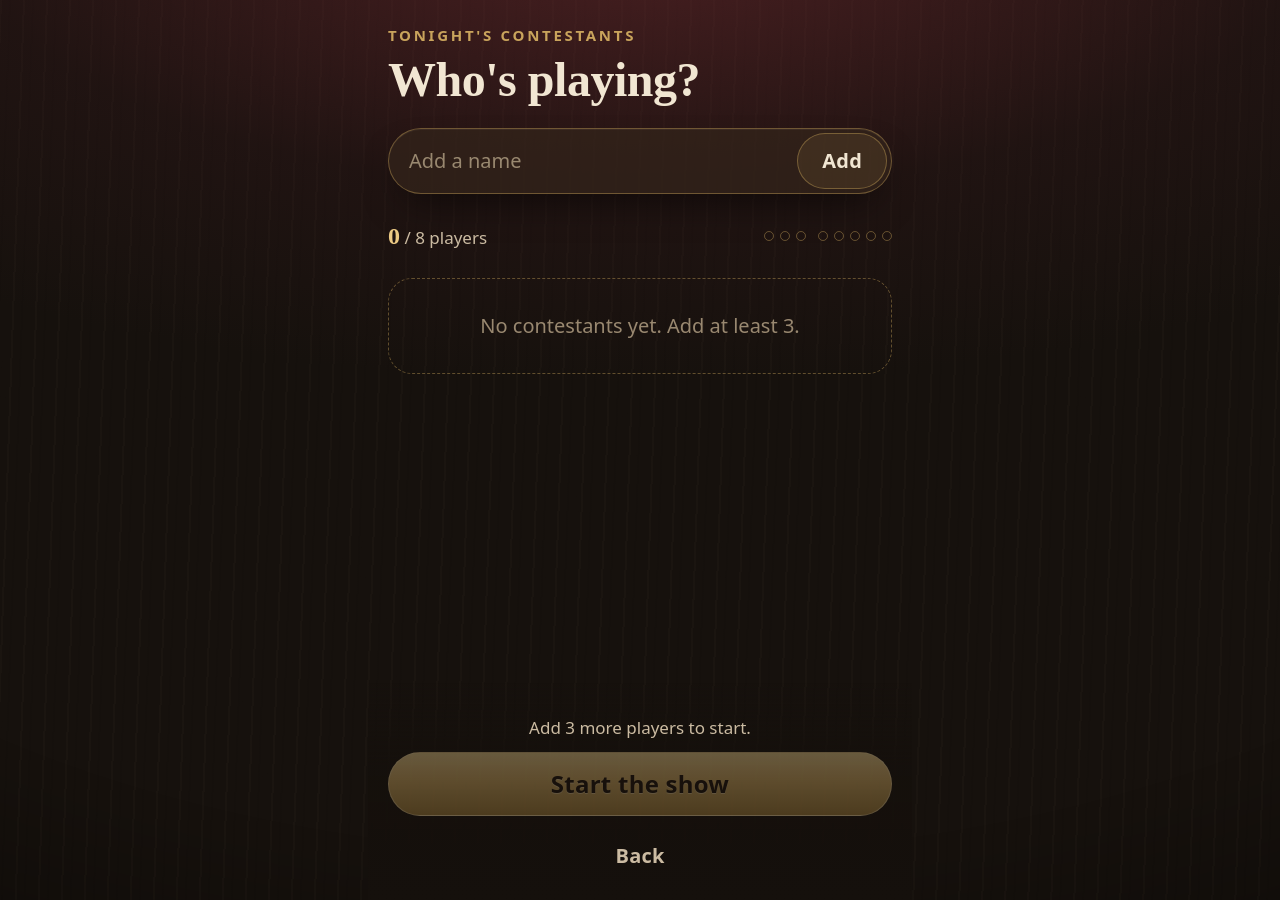
it: Setup › reorders with the move buttons and removes players
Type "Ana" into the field named "Player name" at (591, 161), box [393,133,789,189]
Click the button "Add" at (842, 161), box [797,133,887,189]
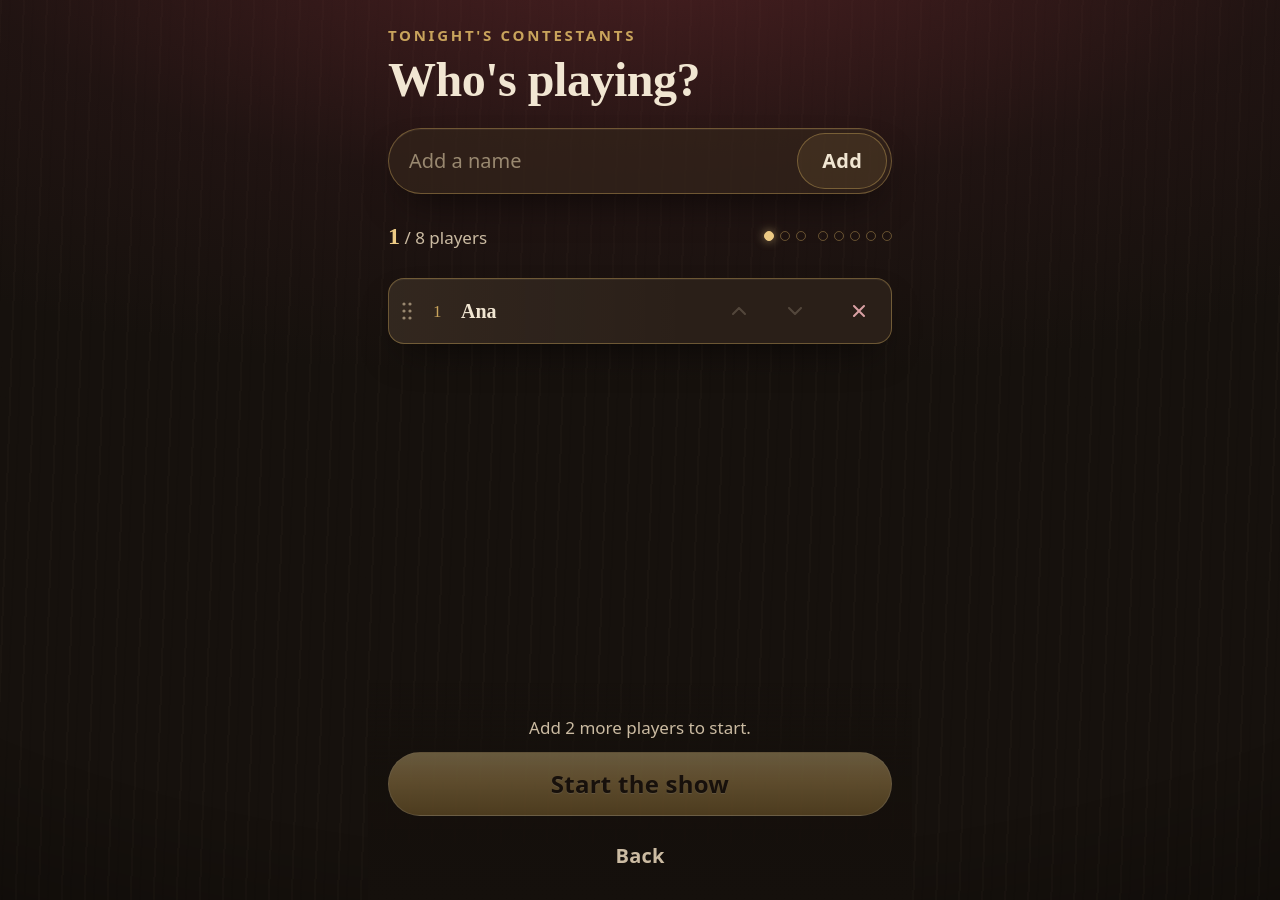
Type "Ben" into the field named "Player name" at (591, 161), box [393,133,789,189]
Click the button "Add" at (842, 161), box [797,133,887,189]
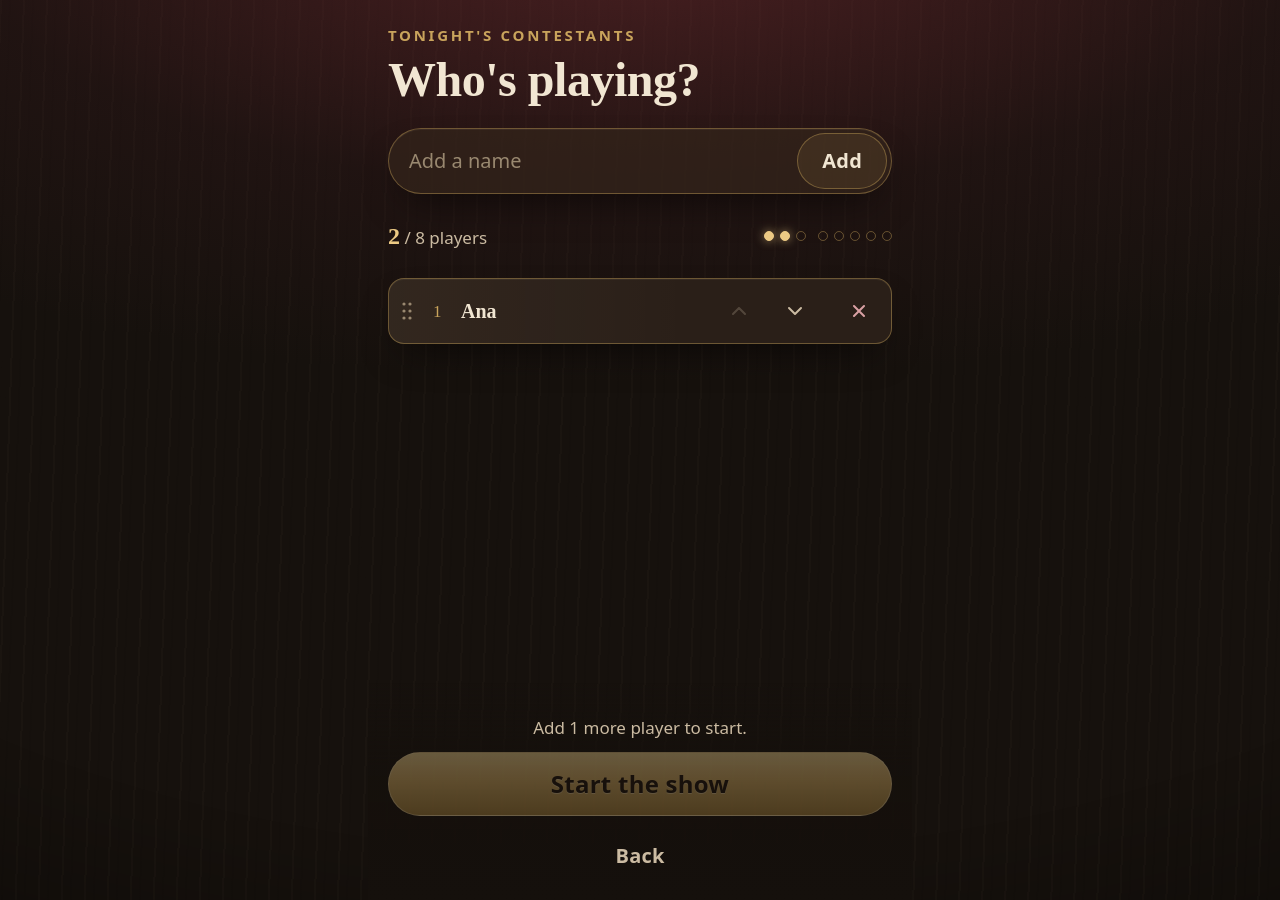
Type "Cleo" into the field named "Player name" at (591, 161), box [393,133,789,189]
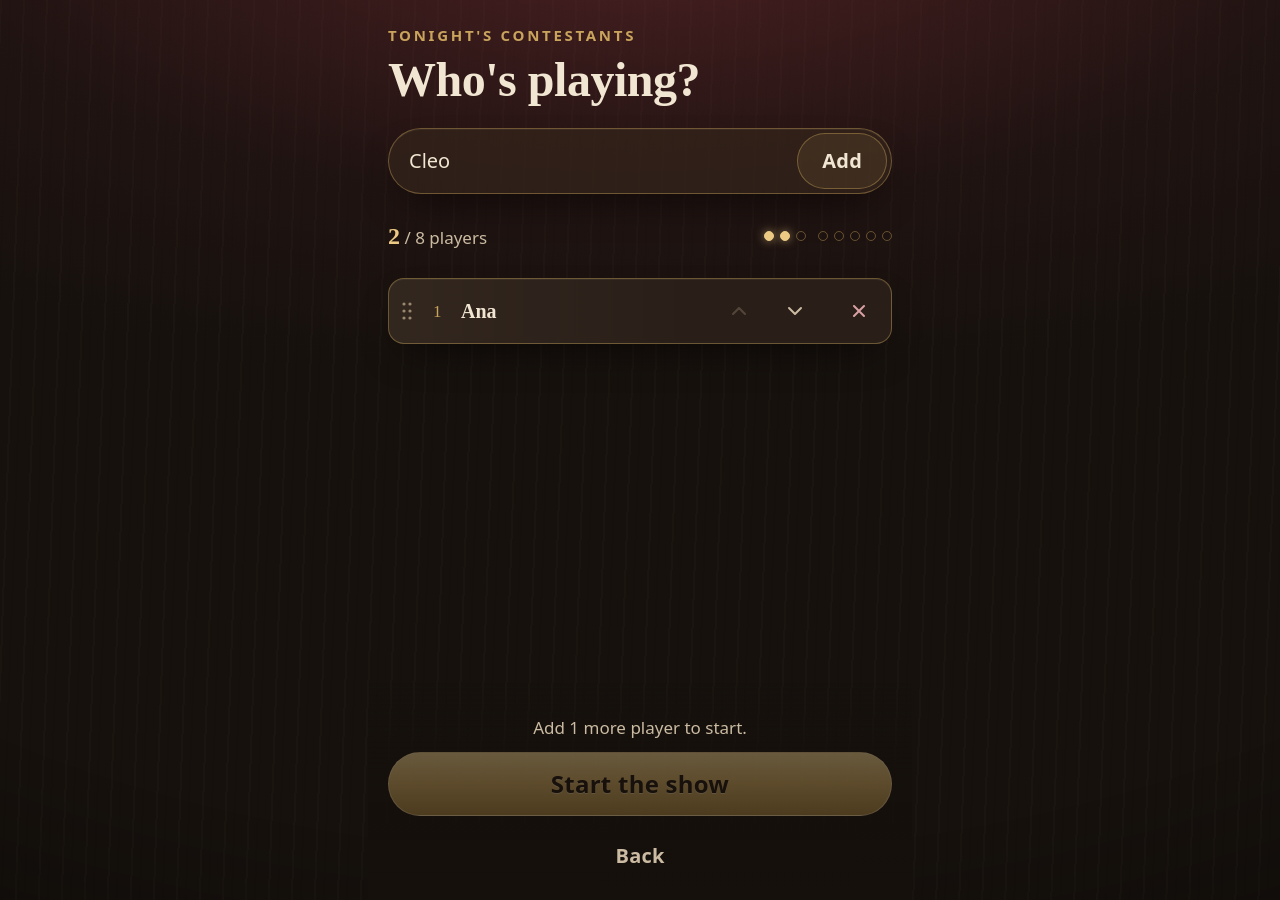
Click the button "Add" at (842, 161), box [797,133,887,189]
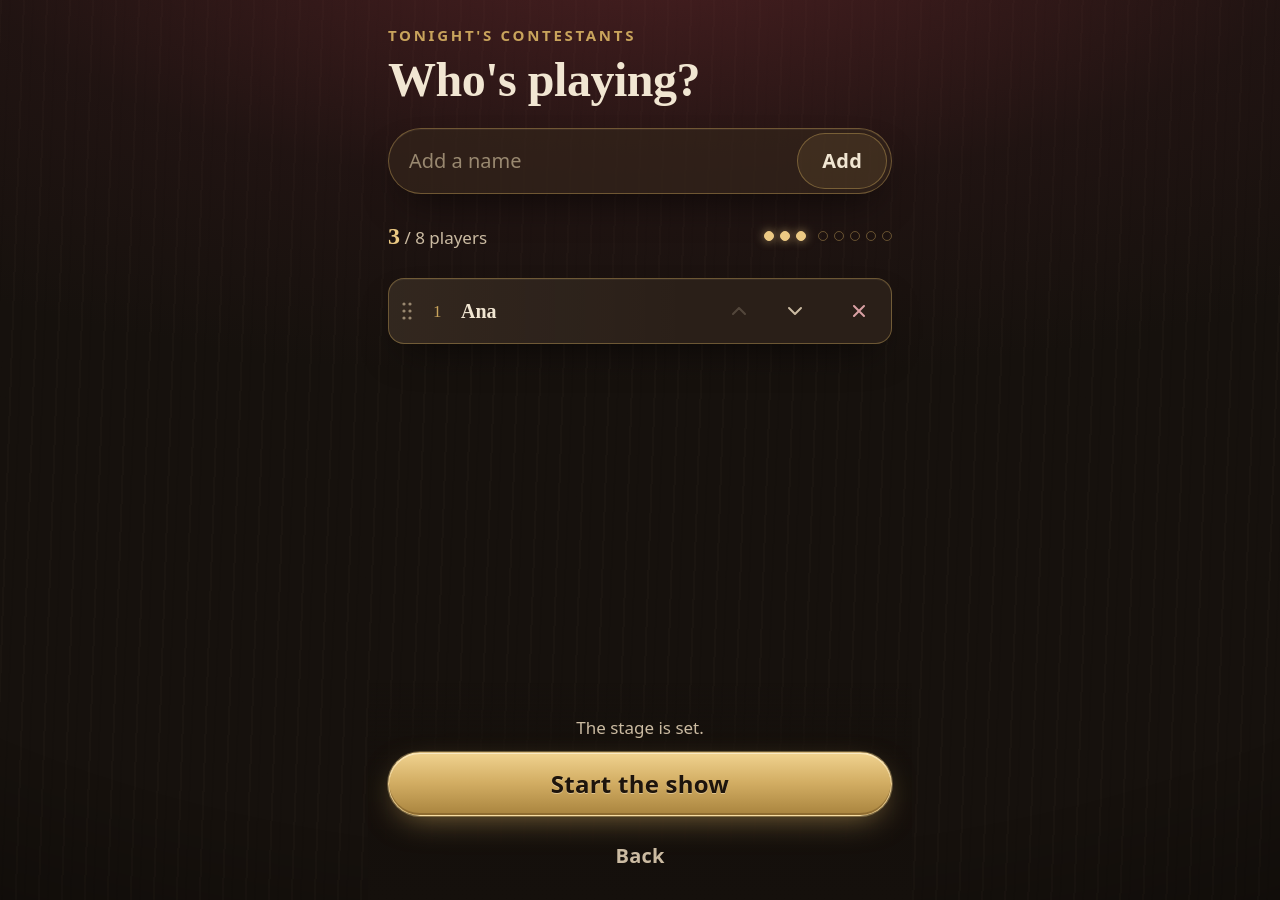
Click the button named "Move Ana down" at (795, 311), box [767,283,823,339]
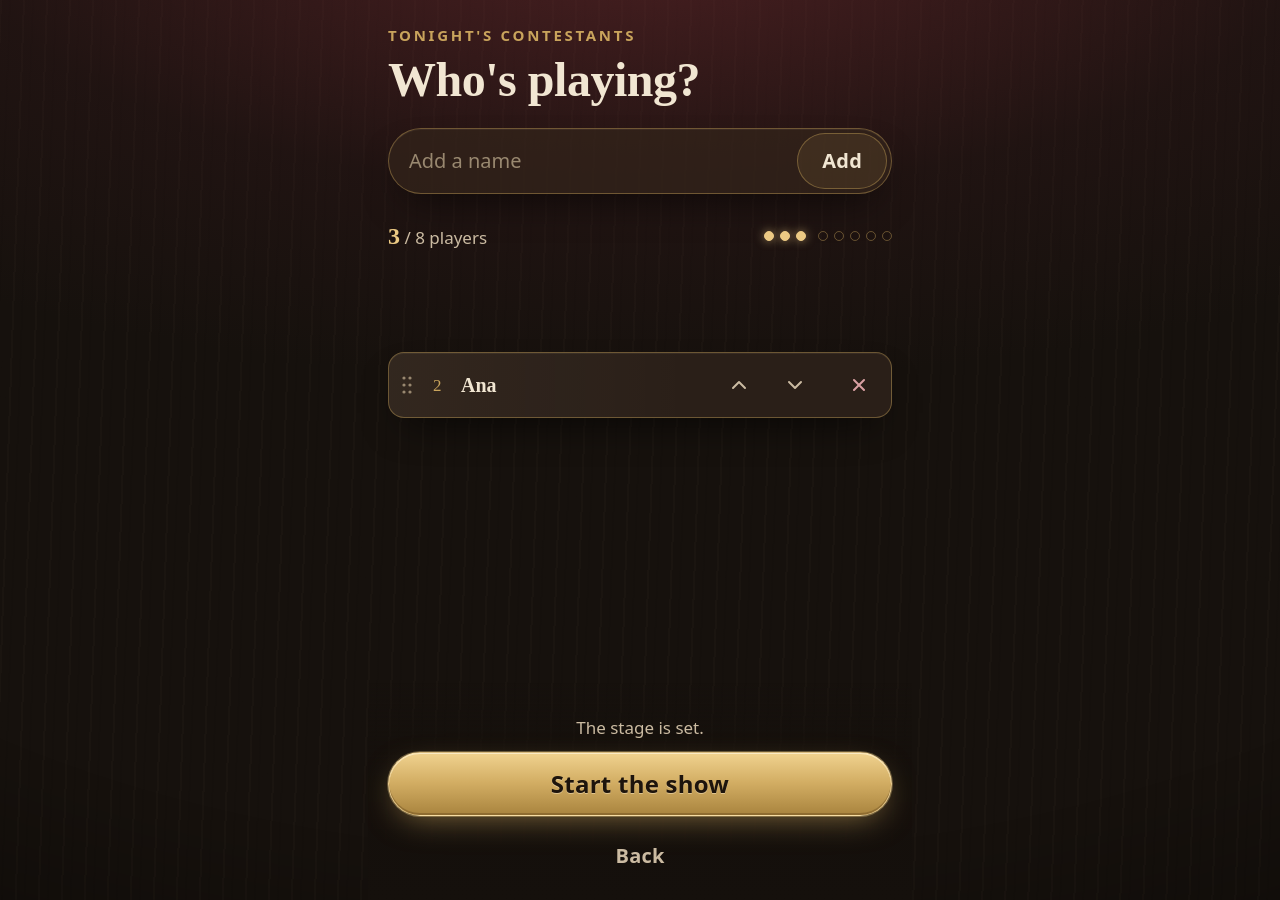
Click the button named "Remove Ana" at (859, 385), box [831,357,887,413]
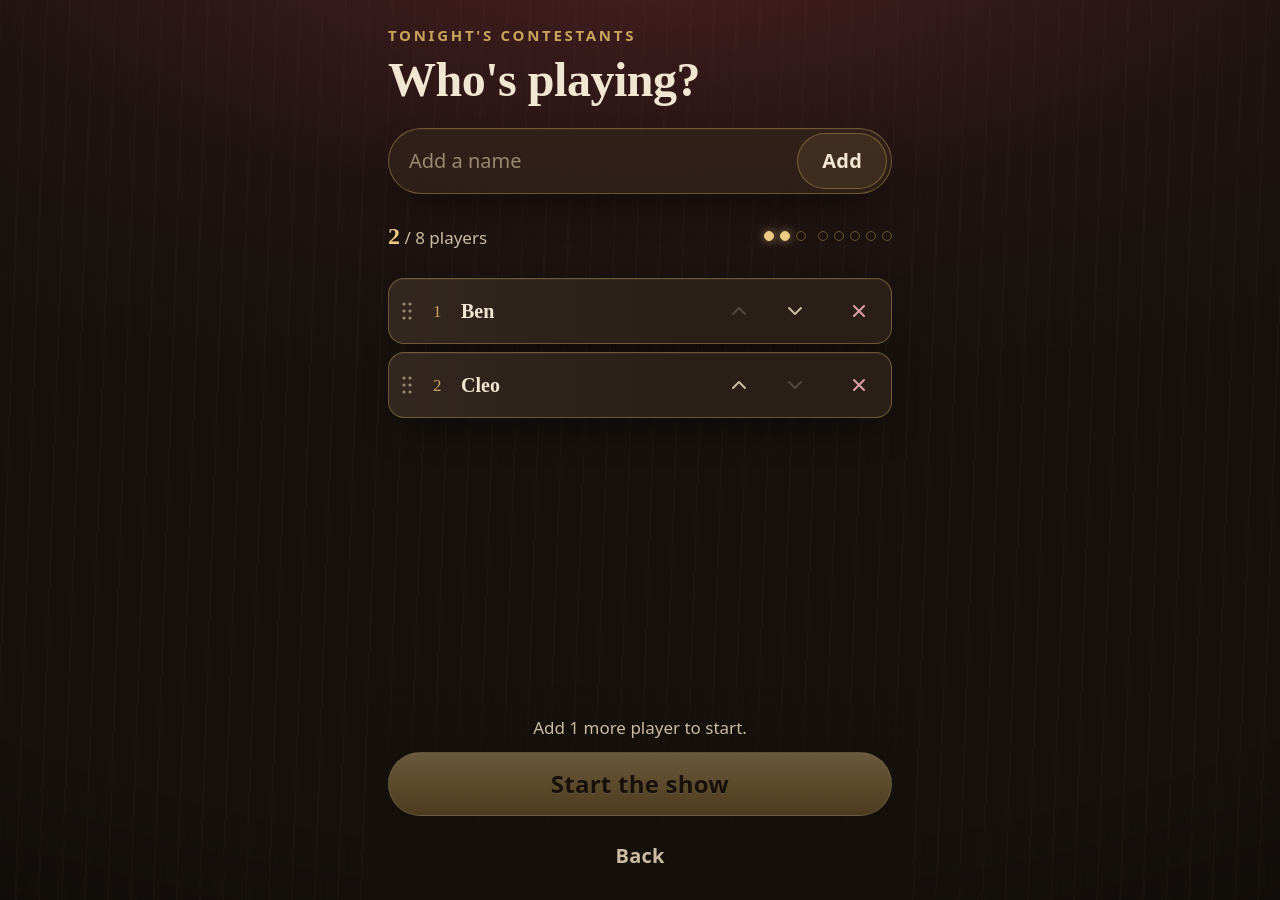
expect the button "Start the show" is disabled: met, box [388,752,892,816]
